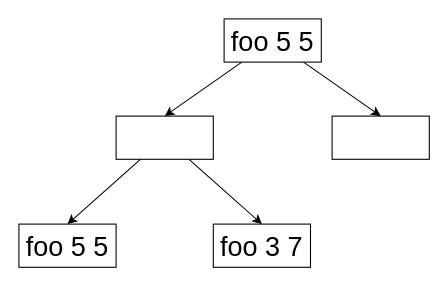
The diagram is 448 pixels wide and 286 high, and some of its shapes have lost their labels. The shapes that lost their labels are listed below. From the top down, each one's box as (x1, y1, x2, y2) in pixels, then its label:
(115, 115, 213, 159): foo 4 6
(331, 115, 429, 159): foo 6 4
